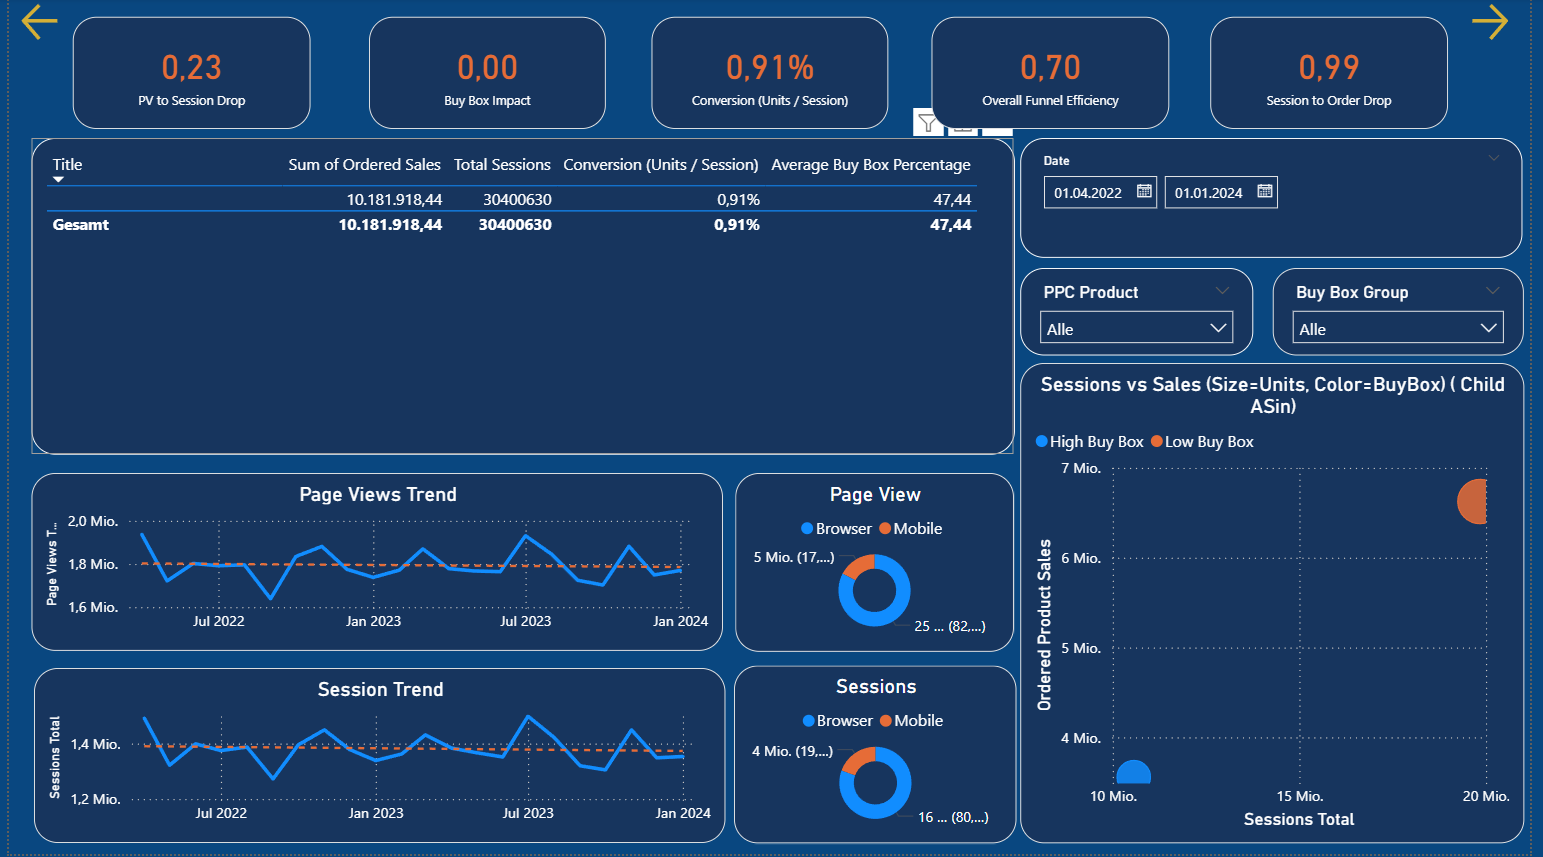

What the dashboard file says about the page in this screenshot:
{"tool":"powerbi","page":{"name":"Page Views Estimation","canvas":[1280,720],"ordinal":2},"visuals":[{"type":"slicer","fields":{"Values":["DimDate.Date"]},"box":[850.9,117.5,422.7,100.8],"z":0},{"type":"slicer","fields":{"Values":["final_fact.buy_box_group"]},"box":[1062.7,226.6,210.9,74],"z":1000},{"type":"slicer","fields":{"Values":["final_fact.ppc_product"]},"box":[850.9,226.6,196.1,74],"z":2000},{"type":"lineChart","title":"Session Trend","fields":{"Y":["Sum(final_fact.sessions_total)"],"Category":["DimDate.Date"]},"box":[20.6,563.8,581.7,147.2],"z":3000},{"type":"lineChart","title":"Page Views Trend","fields":{"Y":["Sum(final_fact.page_views_total)"],"Category":["DimDate.Date"]},"box":[18.5,399.5,581.7,149.8],"z":4000},{"type":"scatterChart","title":"Sessions vs Sales (Size=Units, Color=BuyBox) ( Child ASin)","fields":{"X":["Sum(final_fact.sessions_total)"],"Y":["Sum(final_fact.ordered_product_sales)"],"Size":["Sum(final_fact.units_ordered)"],"Series":["final_fact.buy_box_group"],"Category":["dim_product.child_asin"]},"box":[850.2,307,423.7,404],"z":5000},{"type":"card","fields":{"Values":["Core KPI’lar.Conversion (Units / Session)"]},"box":[540.4,16.2,199.3,94.3],"z":6000},{"type":"tableEx","fields":{"Values":["dim_product.title","Sum(final_fact.ordered_product_sales)","Sum(final_fact.sessions_total)","Core KPI’lar.Conversion (Units / Session)","Avg(final_fact.featured_offer_buy_box_percentage)"]},"box":[18.5,117.5,826.8,266.4],"z":7000},{"type":"donutChart","title":"Sessions","fields":{"Y":["Sum(Business_Reports_Raw.Sessions_Browser)","Sum(Business_Reports_Raw.Sessions_Mobile_App)"]},"box":[609.6,561.1,237.9,149.9],"z":8000},{"type":"donutChart","title":"Page View","fields":{"Y":["Sum(Business_Reports_Raw.Page_Views_Browser)","Sum(Business_Reports_Raw.Page_Views_Mobile_App)"]},"box":[611.4,399.5,234.3,150],"z":9000},{"type":"card","fields":{"Values":["Yeni Measure.PV to Session Drop"]},"box":[53.9,16.2,200.2,94.3],"z":10000},{"type":"card","fields":{"Values":["Yeni Measure.Session to Order Drop"]},"box":[1009.9,15.7,200,94.3],"z":11000},{"type":"card","fields":{"Values":["Yeni Measure.Overall Funnel Efficiency"]},"box":[775.7,16.2,200.2,94.3],"z":12000},{"type":"card","fields":{"Values":["Yeni Measure.Buy Box Impact"]},"box":[302.5,16.2,199.3,94.3],"z":13000},{"type":"actionButton","box":[1224.5,0,49.4,40.4],"z":14000},{"type":"actionButton","box":[6.3,0,47.6,40.4],"z":15000}]}

Visuals, with their boxes in screenshot pixels (x1, y1, x2, y2), scaled from the page's 1280x720 canvas onto the 1543x857 screenshot:
slicer - DimDate.Date: [left=1026, top=140, right=1535, bottom=260]
slicer - final_fact.buy_box_group: [left=1281, top=270, right=1535, bottom=358]
slicer - final_fact.ppc_product: [left=1026, top=270, right=1262, bottom=358]
"Session Trend" lineChart: [left=25, top=671, right=726, bottom=846]
"Page Views Trend" lineChart: [left=22, top=476, right=724, bottom=654]
"Sessions vs Sales (Size=Units, Color=BuyBox) ( Child ASin)" scatterChart: [left=1025, top=365, right=1536, bottom=846]
card - Core KPI’lar.Conversion (Units / Session): [left=651, top=19, right=892, bottom=132]
tableEx - dim_product.title x Sum(final_fact.ordered_product_sales): [left=22, top=140, right=1019, bottom=457]
"Sessions" donutChart: [left=735, top=668, right=1022, bottom=846]
"Page View" donutChart: [left=737, top=476, right=1019, bottom=654]
card - Yeni Measure.PV to Session Drop: [left=65, top=19, right=306, bottom=132]
card - Yeni Measure.Session to Order Drop: [left=1217, top=19, right=1458, bottom=131]
card - Yeni Measure.Overall Funnel Efficiency: [left=935, top=19, right=1176, bottom=132]
card - Yeni Measure.Buy Box Impact: [left=365, top=19, right=605, bottom=132]
actionButton: [left=1476, top=0, right=1536, bottom=48]
actionButton: [left=8, top=0, right=65, bottom=48]
